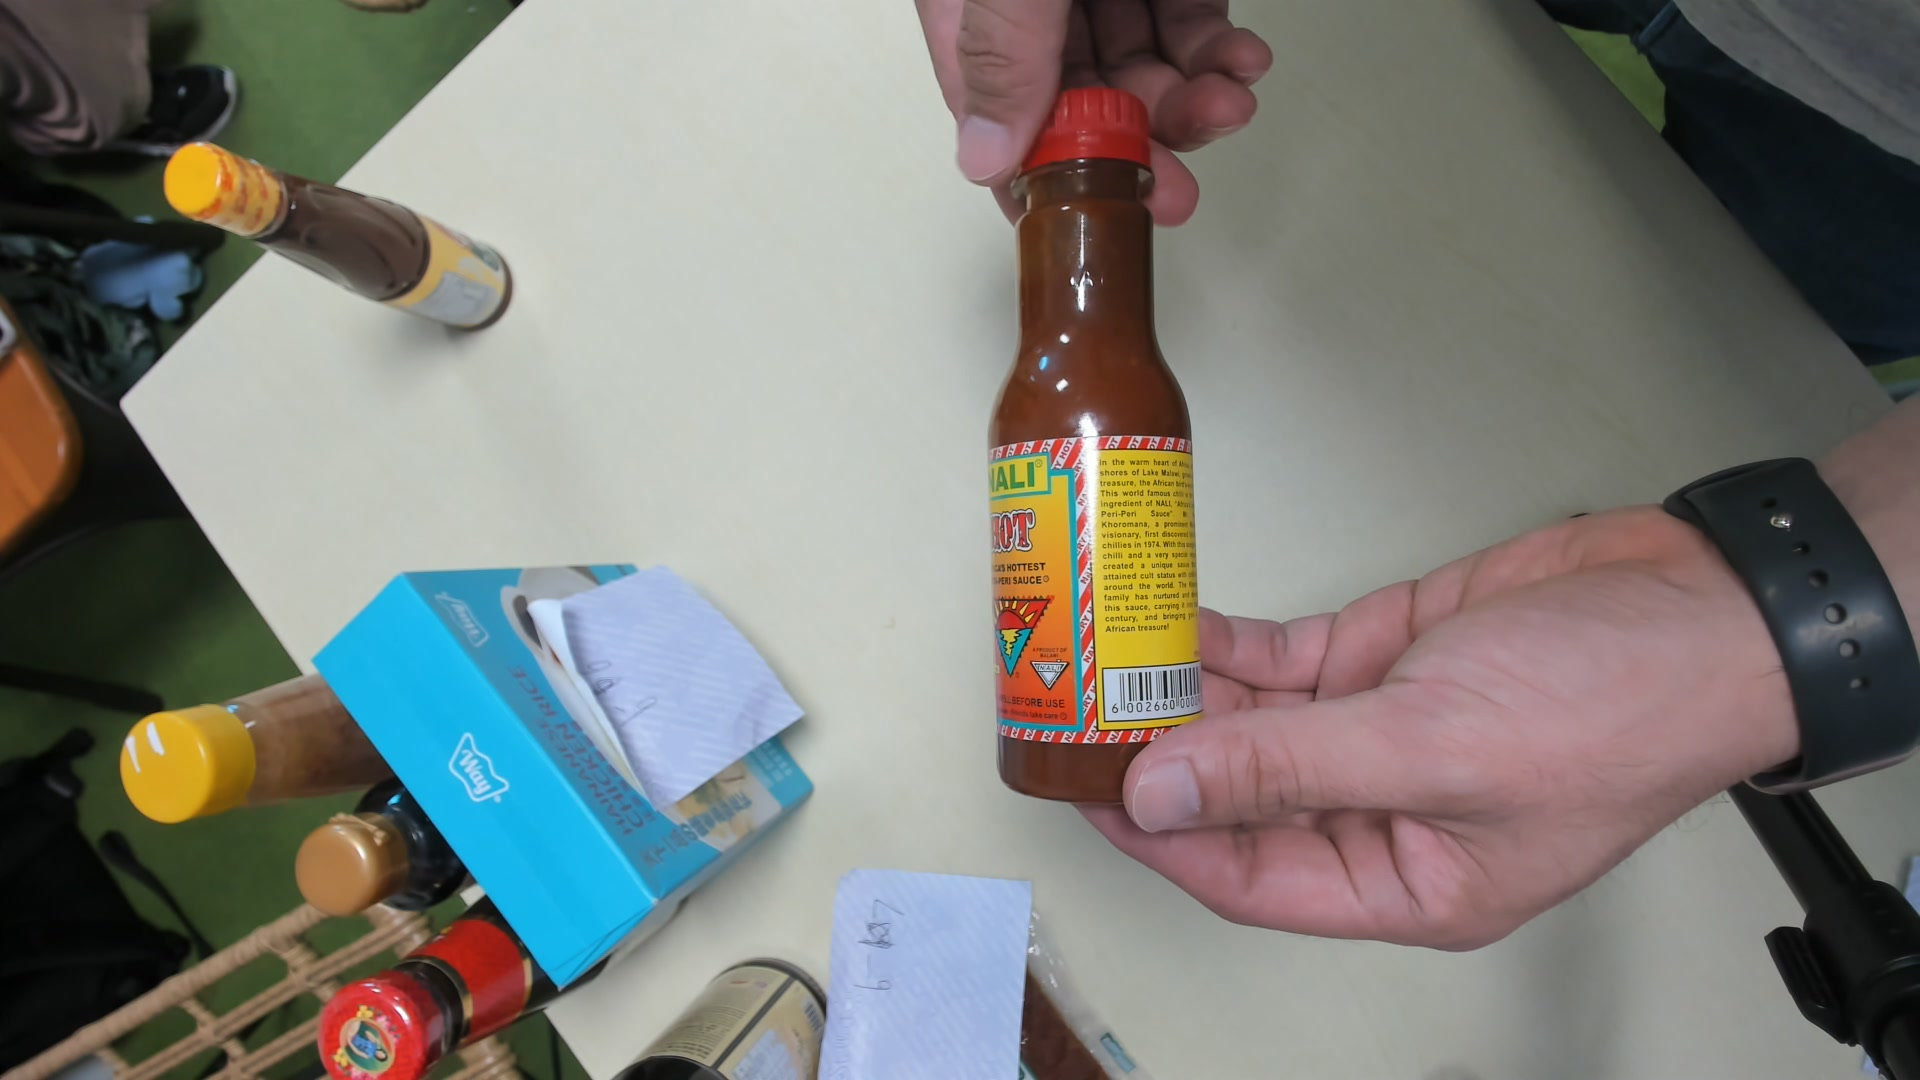KetchupChillSauce_100-199g_Halal_NonHealthy: (988, 83, 1209, 808)
